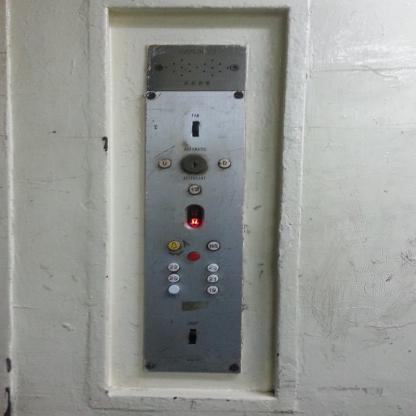12: (187, 184, 202, 196)
19: (206, 285, 219, 294)
20: (167, 273, 180, 283)
21: (206, 273, 219, 283)
22: (167, 262, 180, 272)
23: (206, 263, 219, 272)
D: (217, 158, 232, 170)
NS: (207, 240, 220, 252)
U: (158, 158, 172, 169)
alarm: (167, 239, 181, 251)
empty: (187, 250, 200, 262), (168, 284, 180, 294)
keyhole: (180, 152, 208, 174)
speaker: (143, 42, 249, 93)
unknown: (182, 203, 206, 230)
